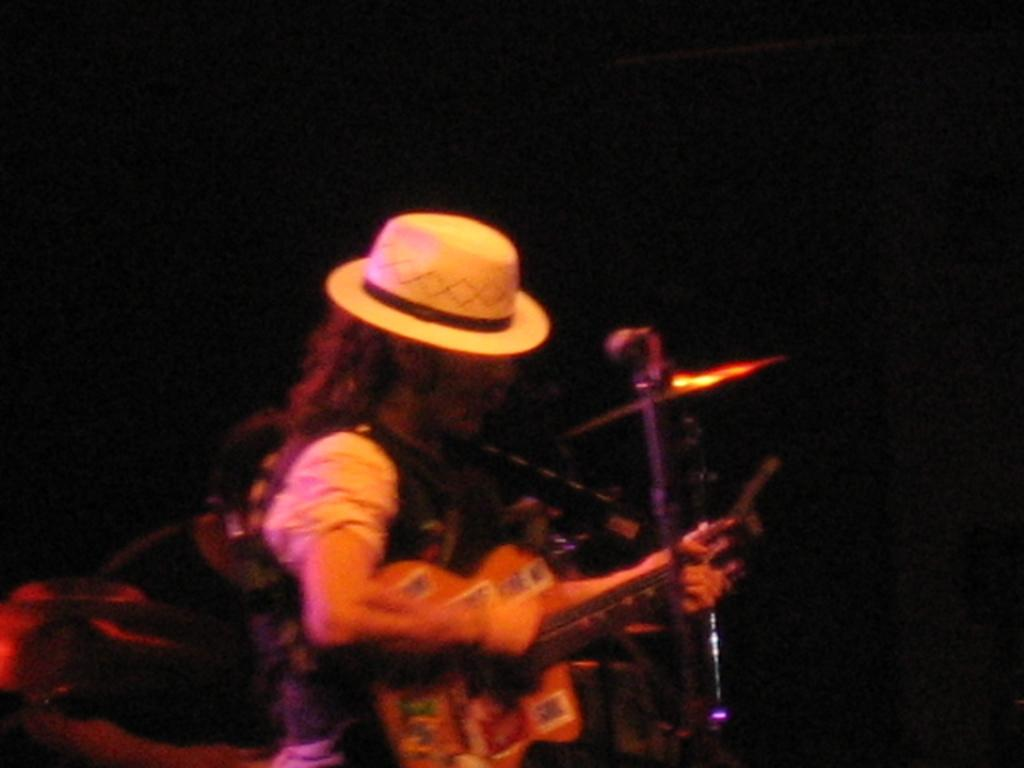Hat: (326, 210, 550, 352)
